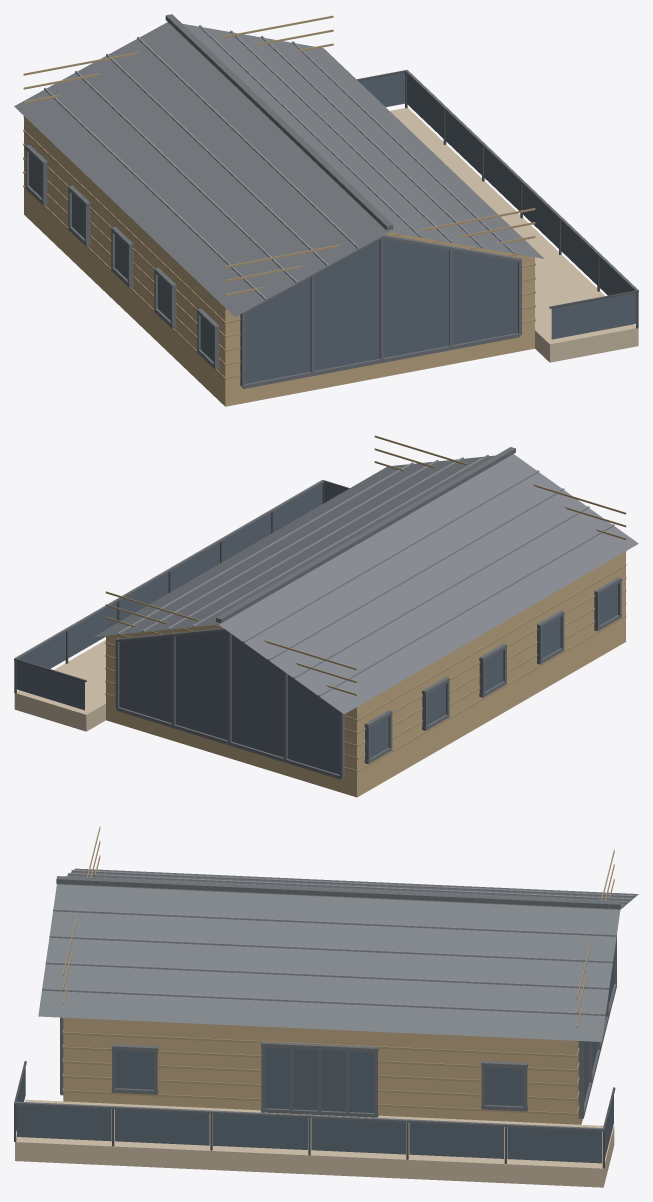
3 views of the same model, one above another, from view 1: azimuth 30°, elevation 25°; view 2: azimuth 150°, elevation 25°; view 3: azimuth 270°, elevation 25° (orthographic). The views are drawn at different scales.
Parts seen in each view (by area): view 1: slate, window_glass_016, door_wood, slate_dk, larch, slate_lt, door_wood_p, window_glass_007, window_glass_005, window_glass_004, window_glass_006, window_glass_002 (+4 smaller); view 2: slate, door_wood, window_glass_015, slate_dk, slate_lt, door_wood_p, larch, window_glass_008, window_glass_005, window_glass_001, window_glass_002, window_glass_003 (+8 smaller); view 3: slate, door_wood, larch, slate_dk, slate_lt, door_wood_p, window_glass_002, window_glass_004, window_glass_005, window_glass_006, window_glass_001, window_glass_003 (+8 smaller).
Boxes of the visible parts, x1,y1,x2,y2 form: slate: (14,22,544,316); window_glass_016: (245,238,517,383); door_wood: (24,116,534,406); slate_dk: (25,14,638,388); larch: (390,108,638,362); slate_lt: (44,25,514,300); door_wood_p: (23,15,535,379); window_glass_007: (551,293,636,339); window_glass_005: (445,111,481,174); window_glass_004: (484,148,520,210); window_glass_006: (407,74,443,138); window_glass_002: (561,221,597,284); slate: (94,454,638,714); door_wood: (106,551,625,797); window_glass_015: (119,631,339,774); slate_dk: (14,447,621,779); slate_lt: (117,454,614,696); door_wood_p: (105,435,626,772); larch: (14,640,105,731); window_glass_008: (16,661,84,710); window_glass_005: (68,602,117,658); window_glass_001: (273,483,322,532); window_glass_002: (222,513,271,561); window_glass_003: (170,543,219,591); slate: (38,868,638,1041); door_wood: (63,1017,582,1124); larch: (15,1099,614,1187); slate_dk: (15,876,620,1131); slate_lt: (42,870,635,1015); door_wood_p: (62,826,614,1115); window_glass_002: (115,1109,209,1145); window_glass_004: (311,1118,405,1154); window_glass_005: (409,1122,503,1158); window_glass_006: (507,1127,601,1163); window_glass_001: (17,1105,111,1141); window_glass_003: (213,1113,307,1149).
Bounding box in the file's own units: 12.21 × 4.41 × 14.88.
